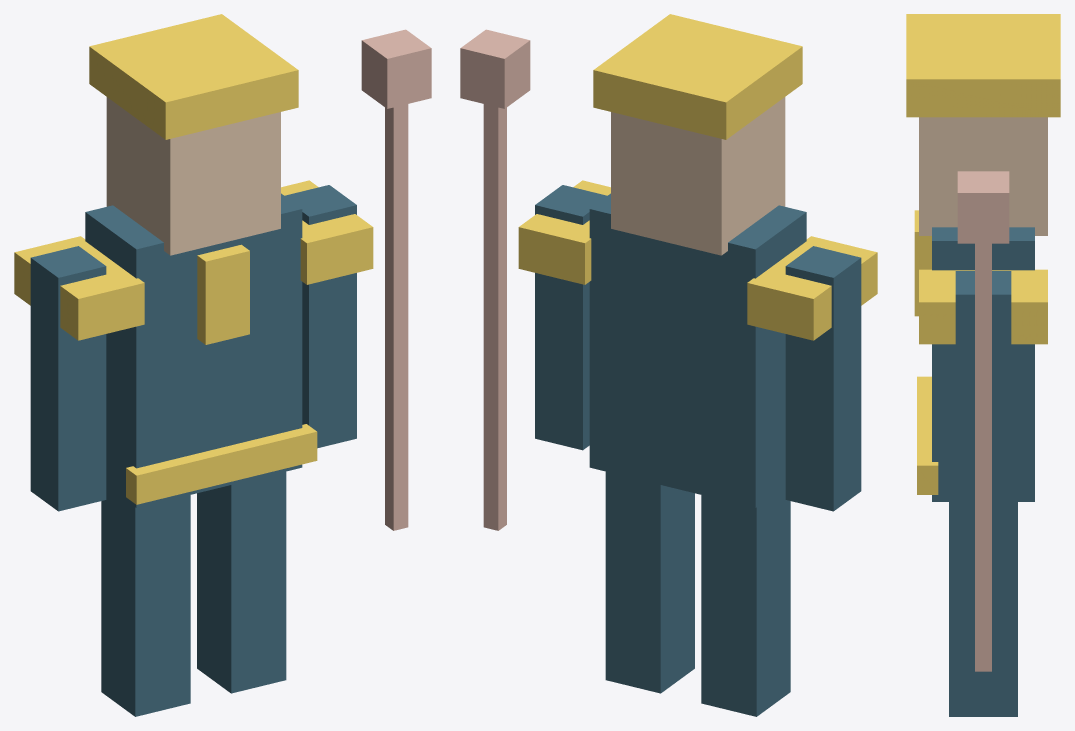
File: 12_orin_emberkin_engineer_of.glb
The picture shows the model from 3 angles, left to right: view 1: azimuth 30°, elevation 25°; view 2: azimuth 150°, elevation 25°; view 3: azimuth 270°, elevation 25°; orthographic projection.
Parts seen in each view (by area): view 1: Orin Emberkin, Engineer of; view 2: Orin Emberkin, Engineer of; view 3: Orin Emberkin, Engineer of.
Boxes of the visible parts, left/top/right/bottom form: Orin Emberkin, Engineer of: left=14, top=14, right=431, bottom=716; Orin Emberkin, Engineer of: left=460, top=14, right=877, bottom=716; Orin Emberkin, Engineer of: left=906, top=14, right=1060, bottom=716.
Size of the model in its own units: 1.03 by 1.64 by 0.3636.
